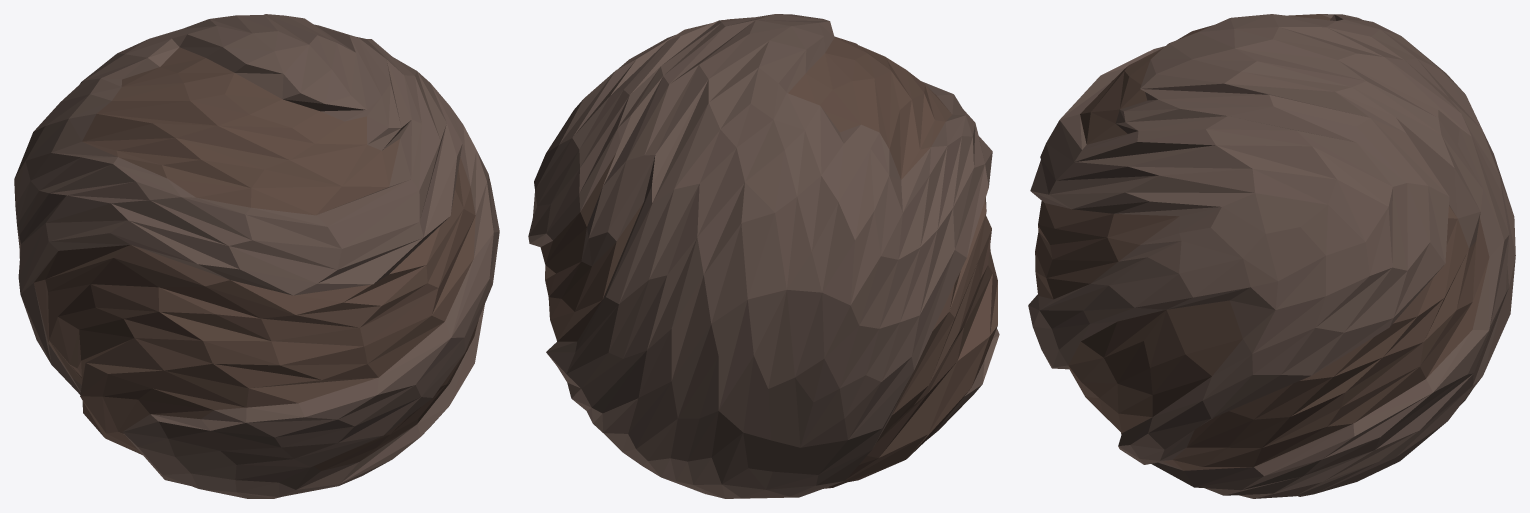
File: pluto.glb
3 renders of one model, left to right at view 1: azimuth 30°, elevation 25°; view 2: azimuth 150°, elevation 25°; view 3: azimuth 270°, elevation 25°, orthographic.
Size of the model in its own units: 33.94 by 34.65 by 34.21.
1 material, 1 textured.
